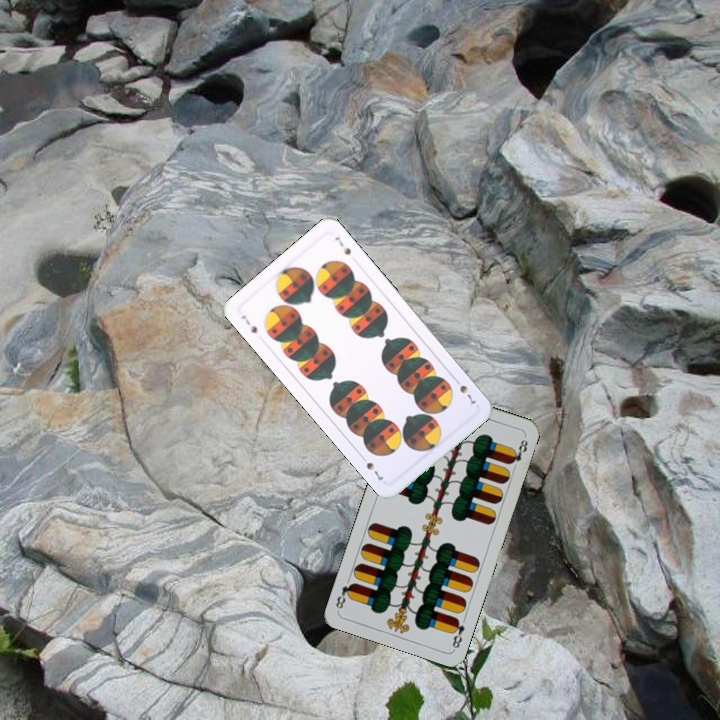E8: (448, 614, 467, 652)
S7: (450, 374, 479, 407), (237, 311, 260, 336)
